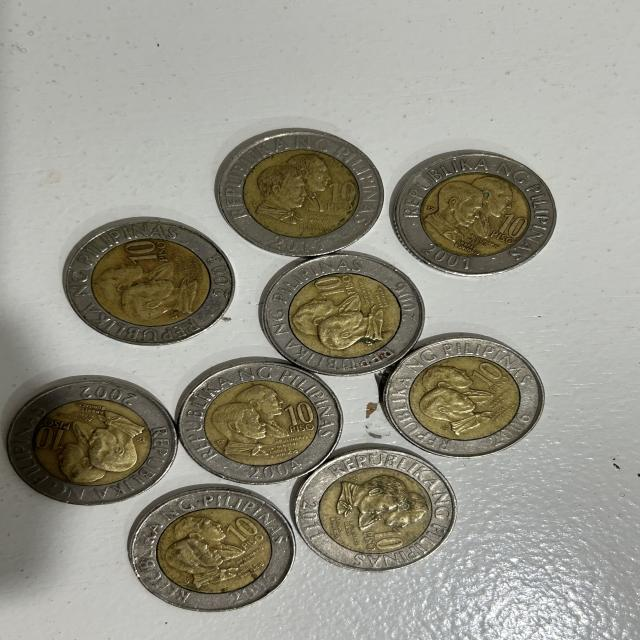10_Old_Front: (459, 354, 510, 394), (116, 238, 176, 266), (219, 516, 267, 549), (360, 524, 408, 556), (486, 212, 528, 248), (308, 274, 361, 302), (276, 401, 318, 436), (30, 416, 67, 454), (322, 177, 355, 217)
